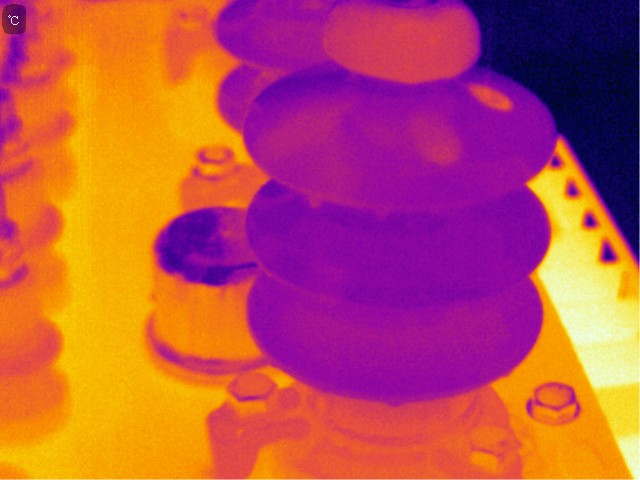Oil: (321, 1, 482, 81), (276, 105, 361, 187), (413, 114, 463, 166), (465, 79, 521, 121), (268, 190, 301, 211), (367, 205, 394, 226), (334, 191, 362, 211), (305, 189, 329, 208), (386, 393, 403, 408)
